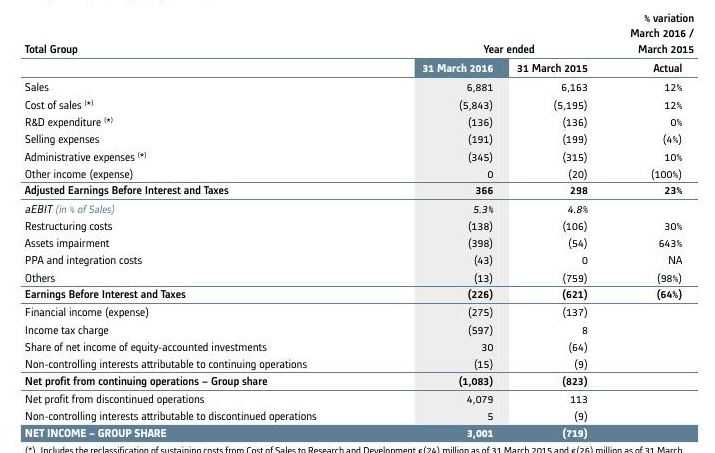table: (0, 0, 715, 453)
